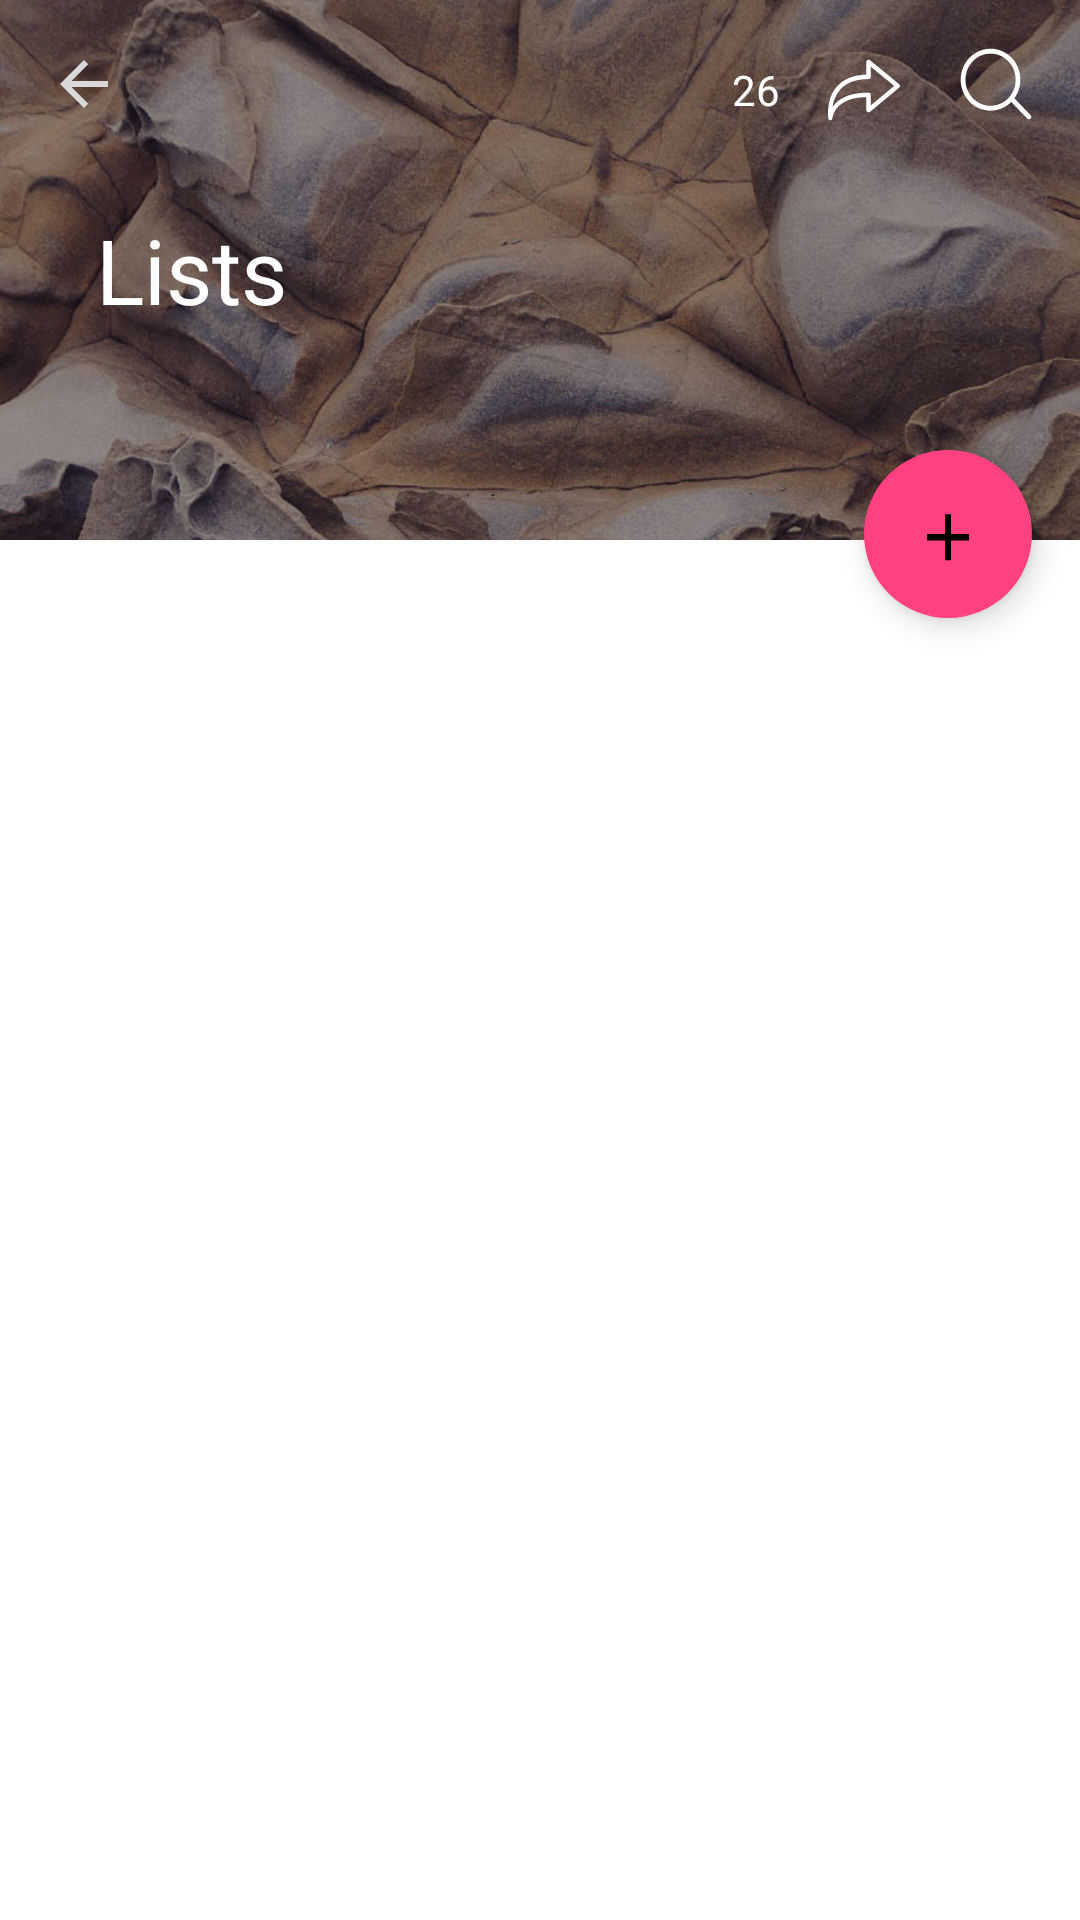

Screen size 1080x1920. Icon name, then its center in pixels as point (x, y):
add: point (948, 534)
next: point (864, 90)
search: point (1020, 84)
